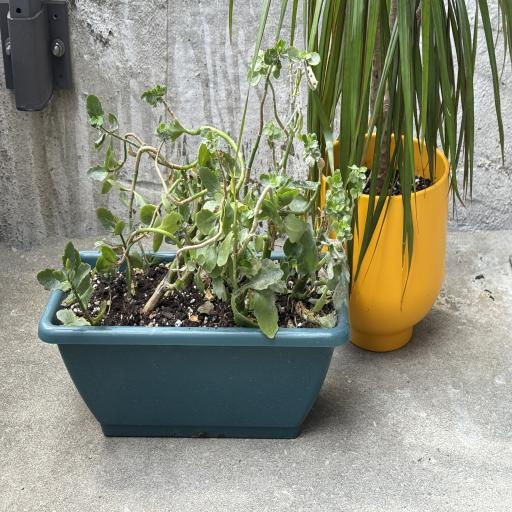Plant Pot: (39, 246, 350, 438), (309, 133, 449, 353)
